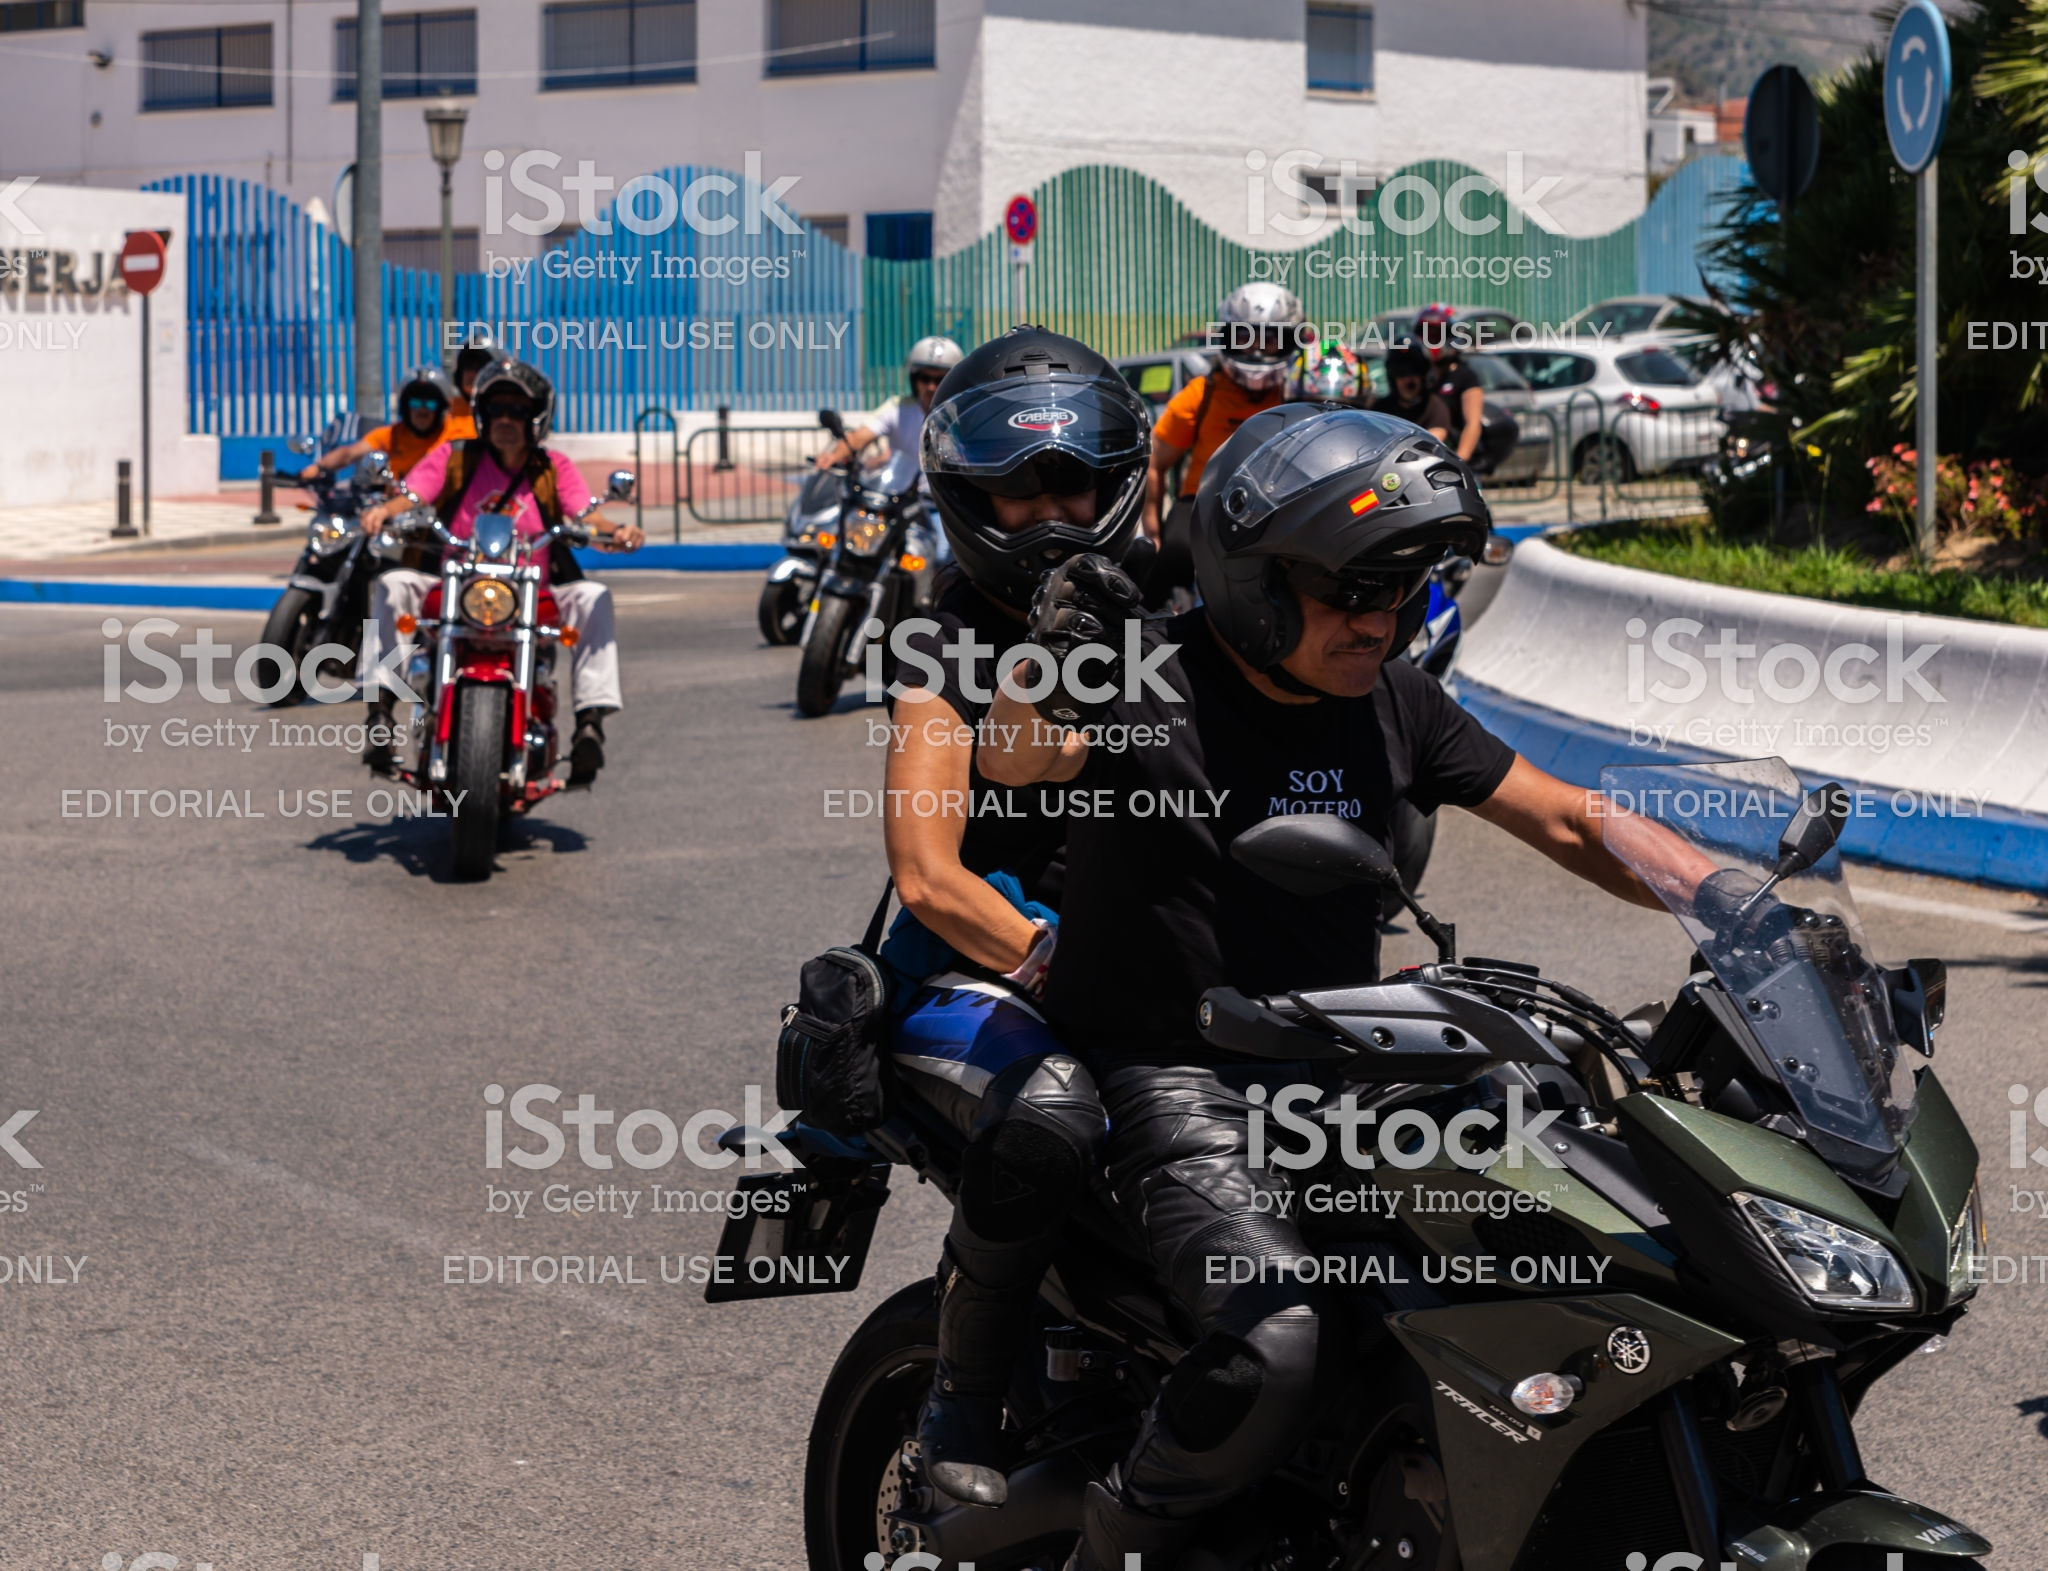helmet: (1195, 416, 1522, 624), (903, 325, 1163, 579), (470, 360, 579, 441)
